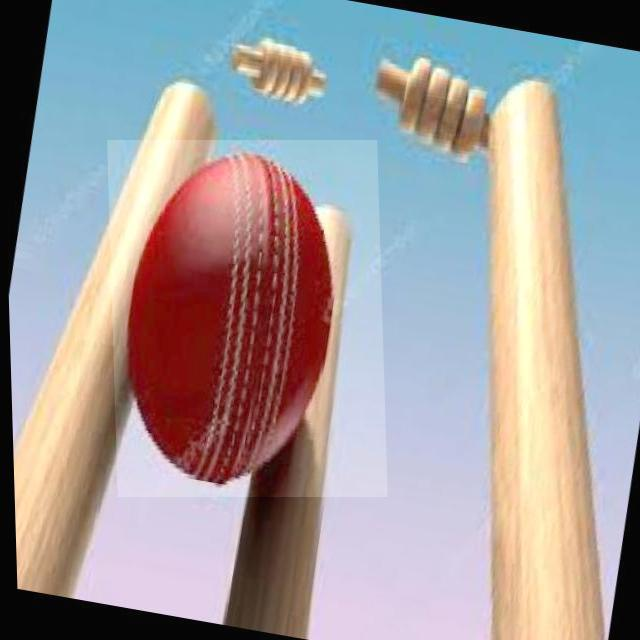-: (106, 140, 384, 497)
